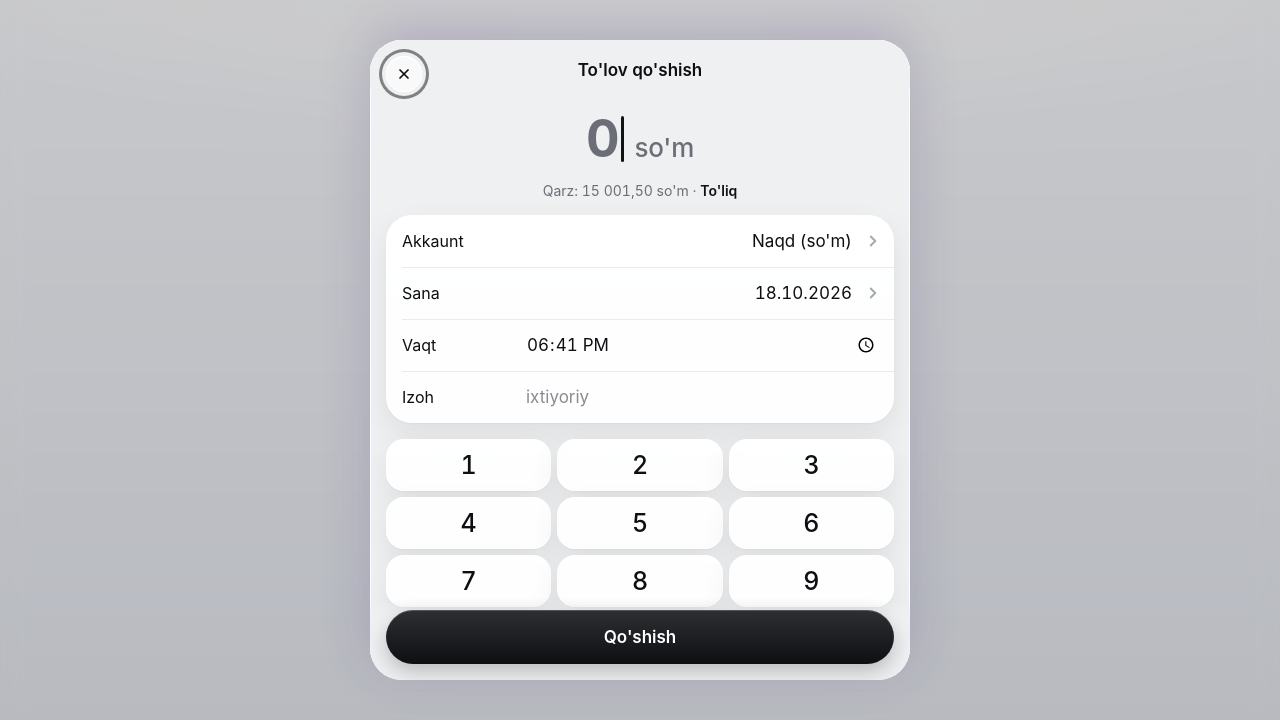
it: what is owed is offered whole: «To'liq» types it
Expected: the text "Qarz: 15 001,50 so'm · To'liq" is shown, 543,175 -> 737,207
Click the button "To'liq".
click(719, 191)  # box 700,175 -> 737,207
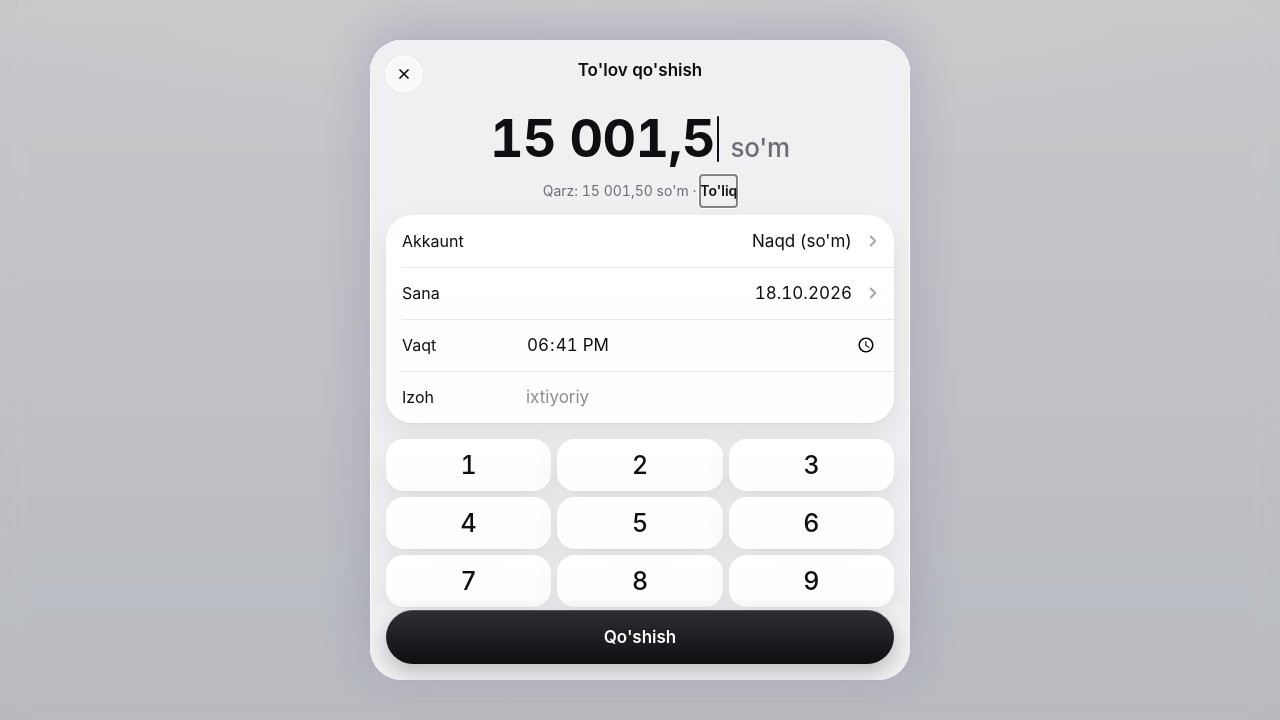
Expected: the element showing "15 001 ,5 so'm" is shown, 490,113 -> 790,165
